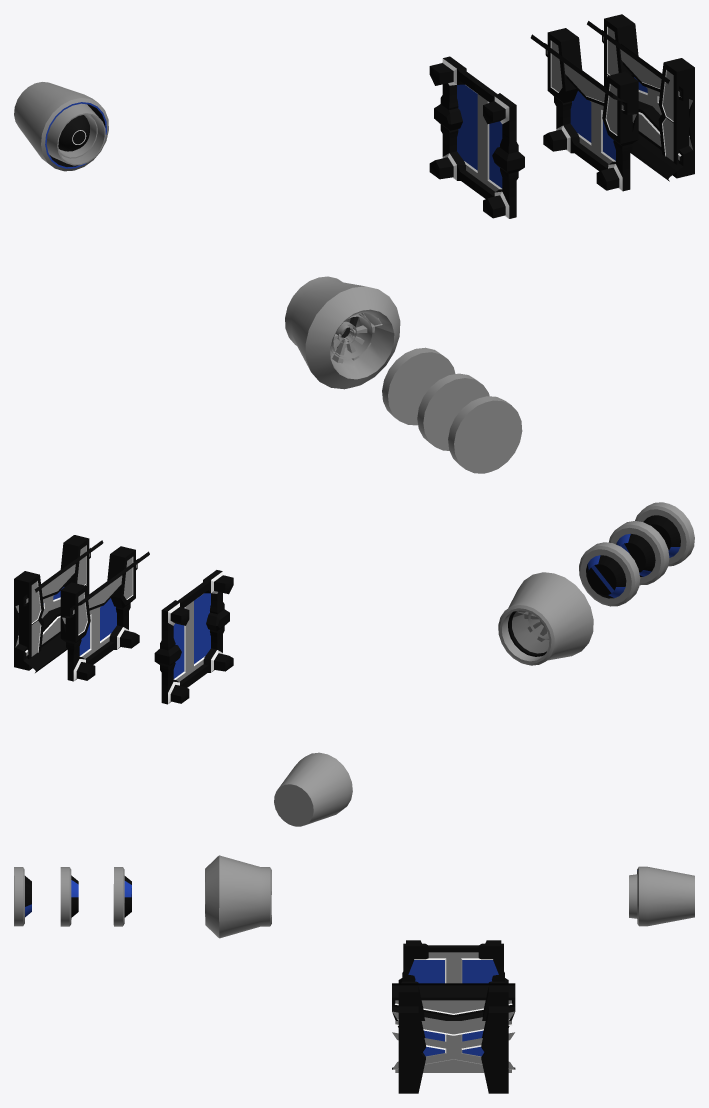
The model's file is Endings.FBX.
3 renders of one model, top to bottom at view 1: azimuth 30°, elevation 25°; view 2: azimuth 150°, elevation 25°; view 3: azimuth 270°, elevation 25°, orthographic. The views are drawn at different scales.
Visible parts, largest first — view 1: Ending00, Ending004, Ending001, Ending002, Ending003, Ending007, Ending005, Ending006; view 2: Ending00, Ending004, Ending001, Ending002, Ending003, Ending005, Ending006, Ending007; view 3: Ending002, Ending004, Ending001, Ending00, Ending003, Ending006, Ending005, Ending007.
Boxes of the visible parts, x1,y1,x2,y2 form: Ending00: (429, 56, 524, 218); Ending004: (285, 276, 400, 389); Ending001: (530, 28, 638, 191); Ending002: (587, 14, 694, 181); Ending003: (14, 82, 108, 171); Ending007: (448, 396, 522, 473); Ending005: (382, 347, 455, 425); Ending006: (417, 373, 489, 450); Ending00: (154, 570, 233, 704); Ending004: (498, 572, 593, 665); Ending001: (60, 546, 149, 681); Ending002: (14, 535, 103, 672); Ending003: (274, 752, 352, 826); Ending005: (579, 542, 640, 606); Ending006: (608, 521, 669, 585); Ending007: (635, 502, 694, 566); Ending002: (392, 1006, 515, 1093); Ending004: (205, 855, 271, 938); Ending001: (392, 983, 515, 1059); Ending00: (398, 940, 508, 983); Ending003: (629, 866, 694, 926); Ending006: (60, 867, 78, 926); Ending005: (113, 867, 131, 926); Ending007: (14, 867, 31, 926).
Bounding box in the file's own units: 1300 × 1995 × 302.
